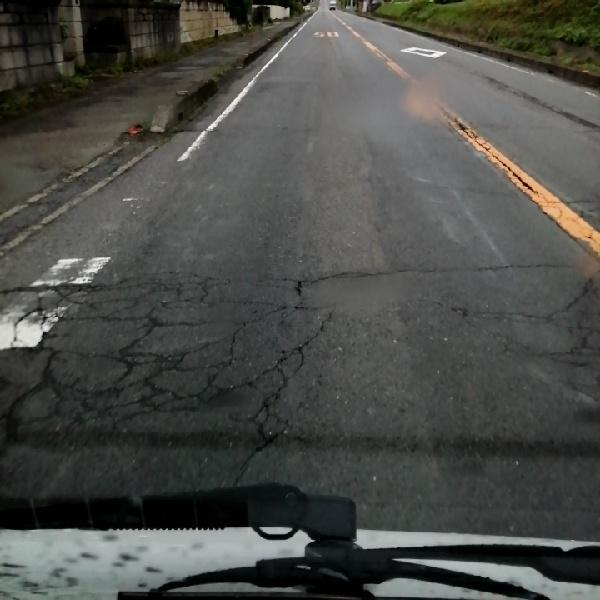D10: (303, 250, 568, 292), (555, 195, 599, 209)
D20: (0, 265, 348, 516), (463, 276, 599, 389)
